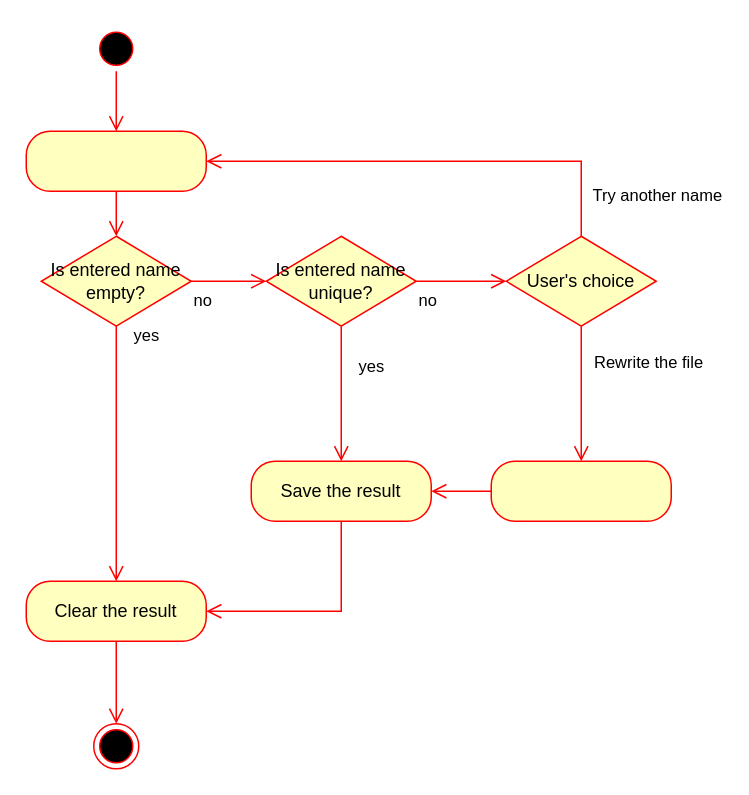
This 749x795 diagram has some shape labels left out. Here are the shapes that lost their labels. From the top down, the box of each, then its label:
(25, 130, 206, 191): User enters a file name
(490, 460, 671, 521): Remove previous file
